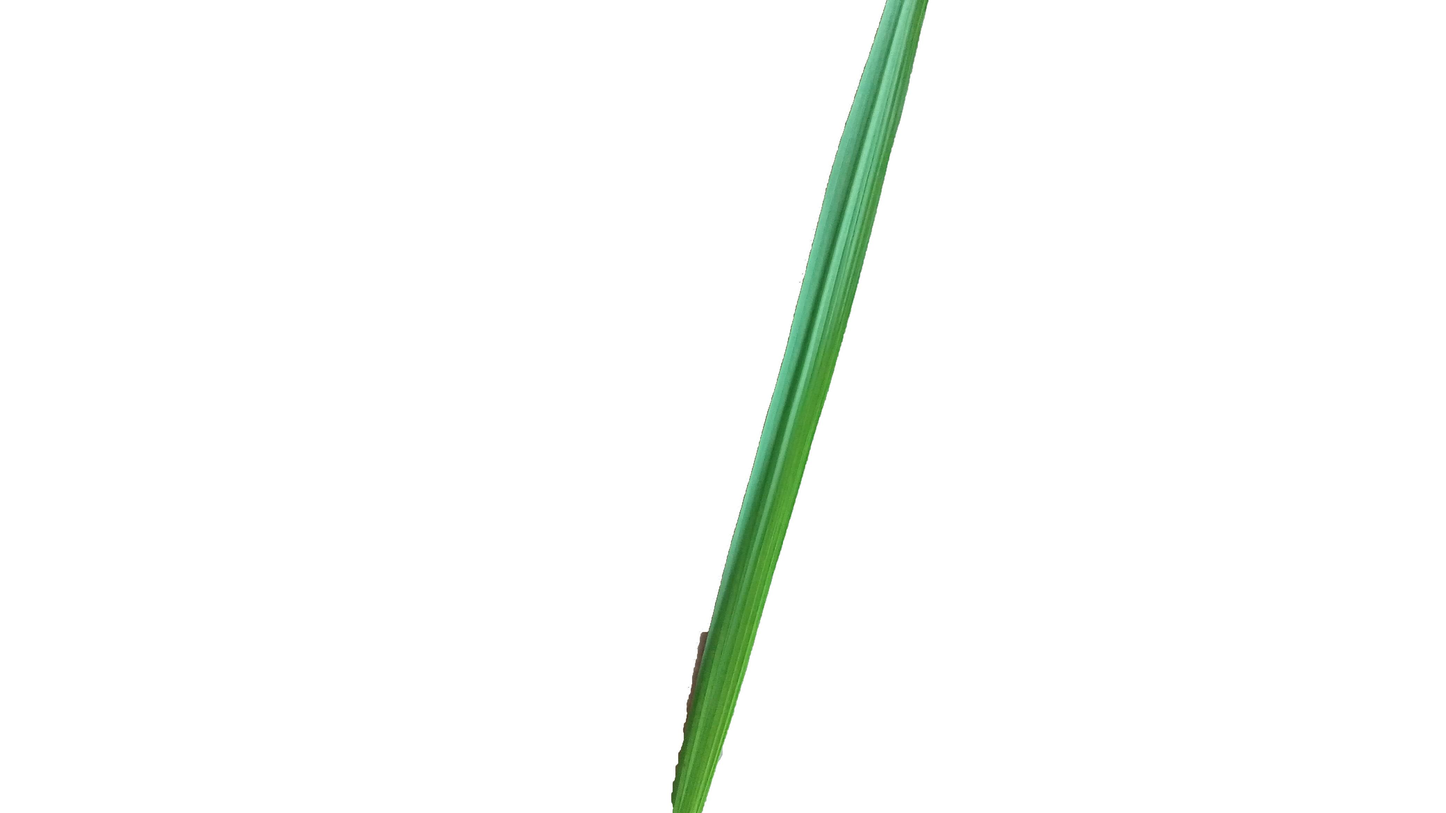Healthy: (672, 0, 938, 813)
